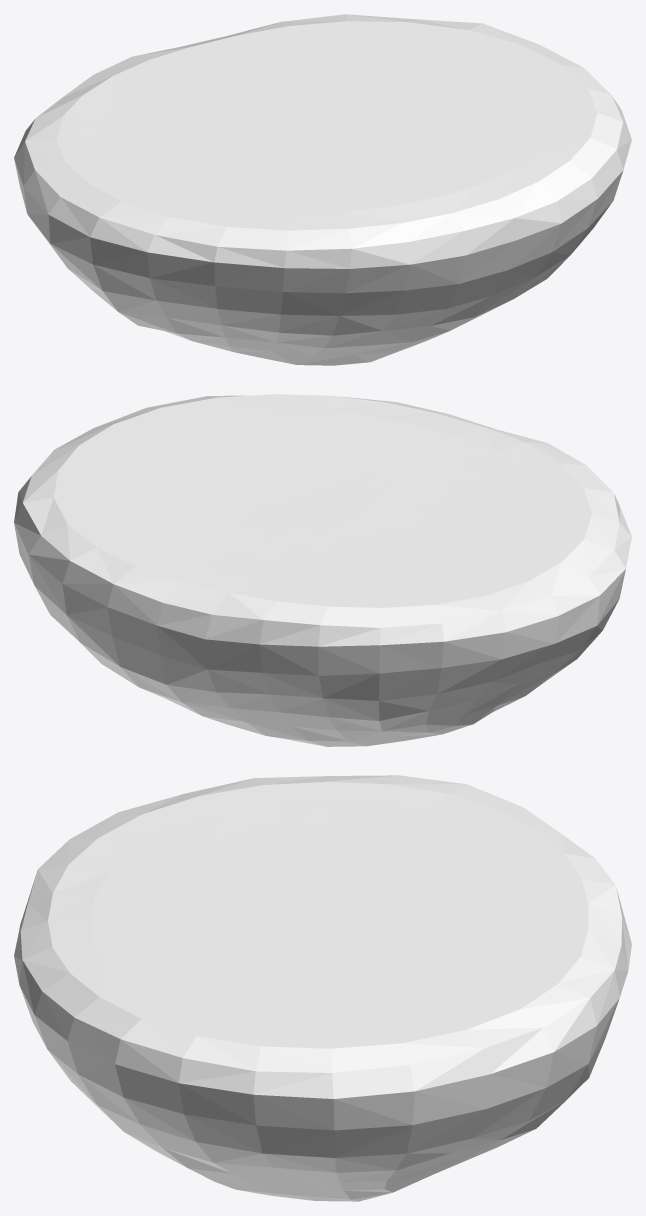
File: texture use this normalsobj.OBJ
3 views of the same model, one above another, from view 1: azimuth 30°, elevation 25°; view 2: azimuth 150°, elevation 25°; view 3: azimuth 270°, elevation 25° (orthographic). The views are drawn at different scales.
Parts seen in each view (by area): view 1: Group3770; view 2: Group3770; view 3: Group3770.
Part boxes in pixels (x1,y1,x2,y2): Group3770: (14,14,631,365); Group3770: (14,394,631,746); Group3770: (14,775,631,1201).
Bounding box in the file's own units: 15.35 × 5.67 × 12.97.
1 material, 1 textured.
